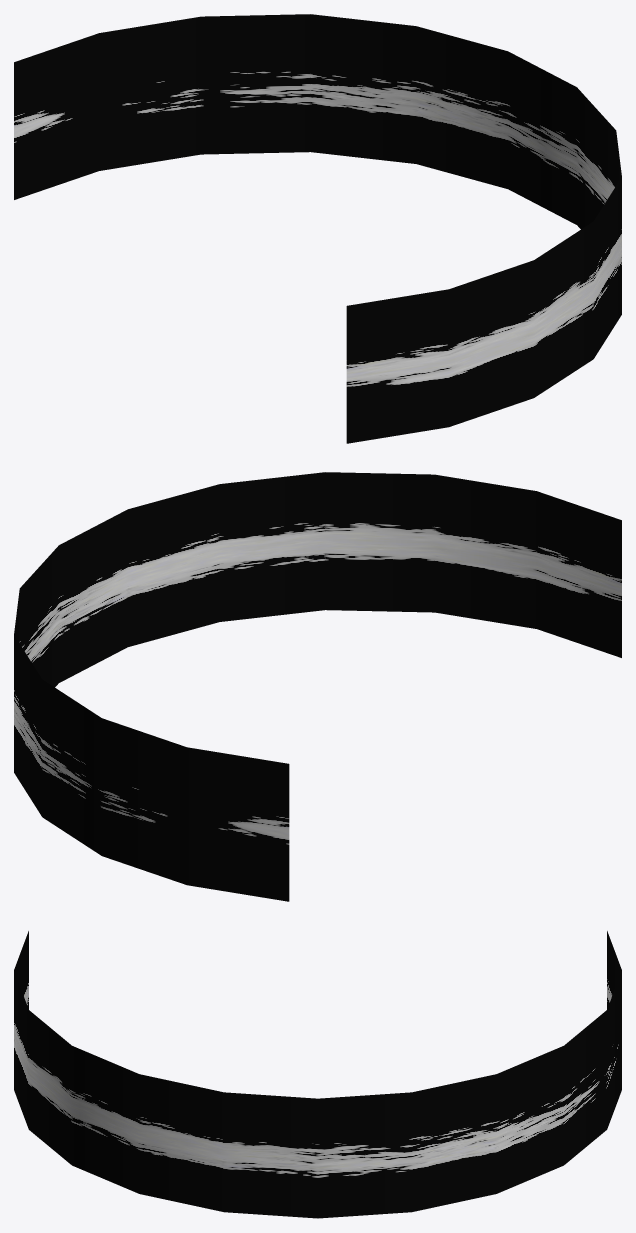
File: yuanpian.fbx
3 views of the same model, one above another, from view 1: azimuth 30°, elevation 25°; view 2: azimuth 150°, elevation 25°; view 3: azimuth 270°, elevation 25° (orthographic). The views are drawn at different scales.
Parts seen in each view (by area): view 1: yuanpian; view 2: yuanpian; view 3: yuanpian.
Boxes of the visible parts, bbox=[...] form: yuanpian: bbox=[14, 14, 621, 443]; yuanpian: bbox=[14, 472, 621, 901]; yuanpian: bbox=[14, 931, 621, 1218].
Bounding box in the file's own units: 0.4948 × 0.1645 × 0.756.
Materials: 1 (1 with a texture image).
